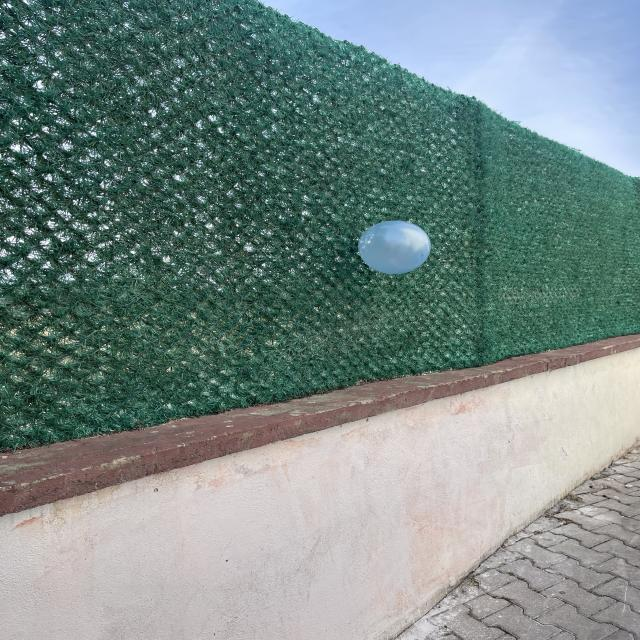balloon: (359, 221, 430, 274)
